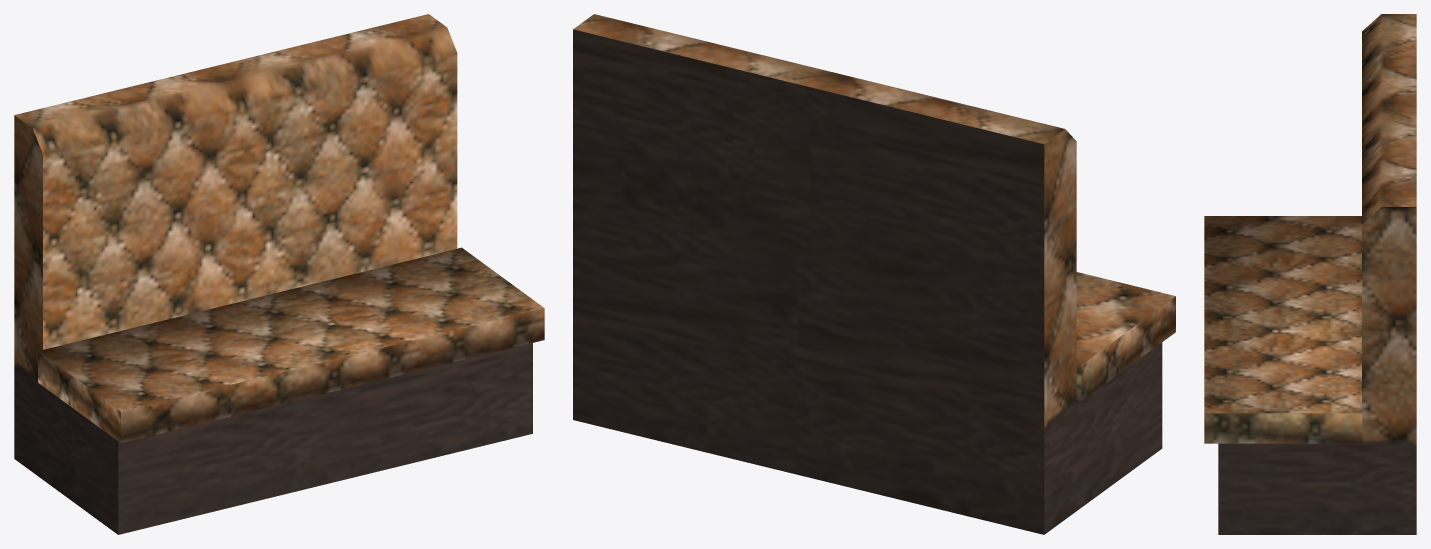
The model's file is Armchair.glb.
3 views of the same model, side by side, from view 1: azimuth 30°, elevation 25°; view 2: azimuth 150°, elevation 25°; view 3: azimuth 270°, elevation 25° (orthographic). The views are drawn at different scales.
Parts seen in each view (by area): view 1: Seat; view 2: Seat; view 3: Seat.
Boxes of the visible parts, box(x1,y1,x2,y2) form: Seat: box(14, 14, 544, 534); Seat: box(573, 14, 1175, 534); Seat: box(1204, 14, 1416, 534).
Size of the model in its own units: 2.33 by 1.81 by 1.06.
1 material, 1 textured.
